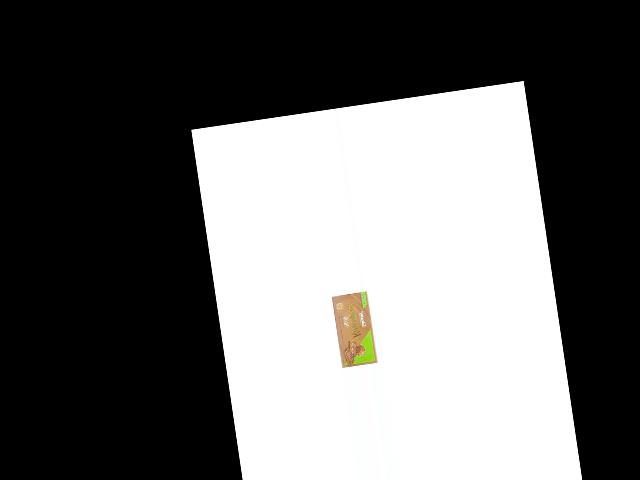chocolate: (329, 288, 380, 369)
